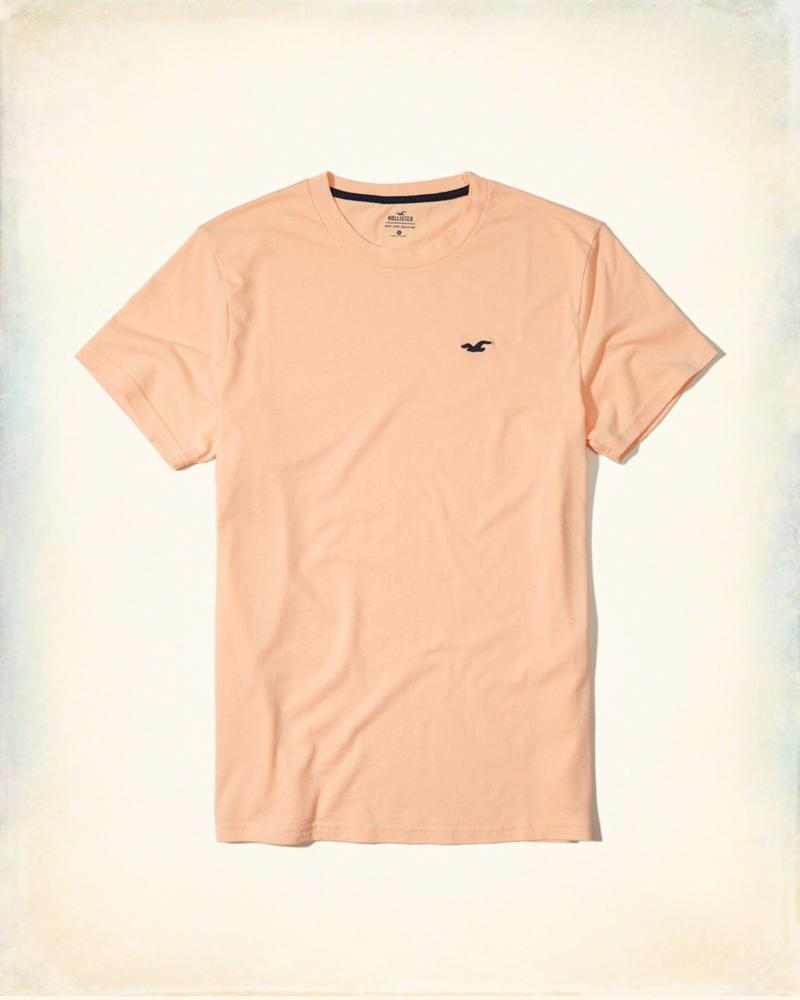teeshirt: (65, 153, 732, 865)
